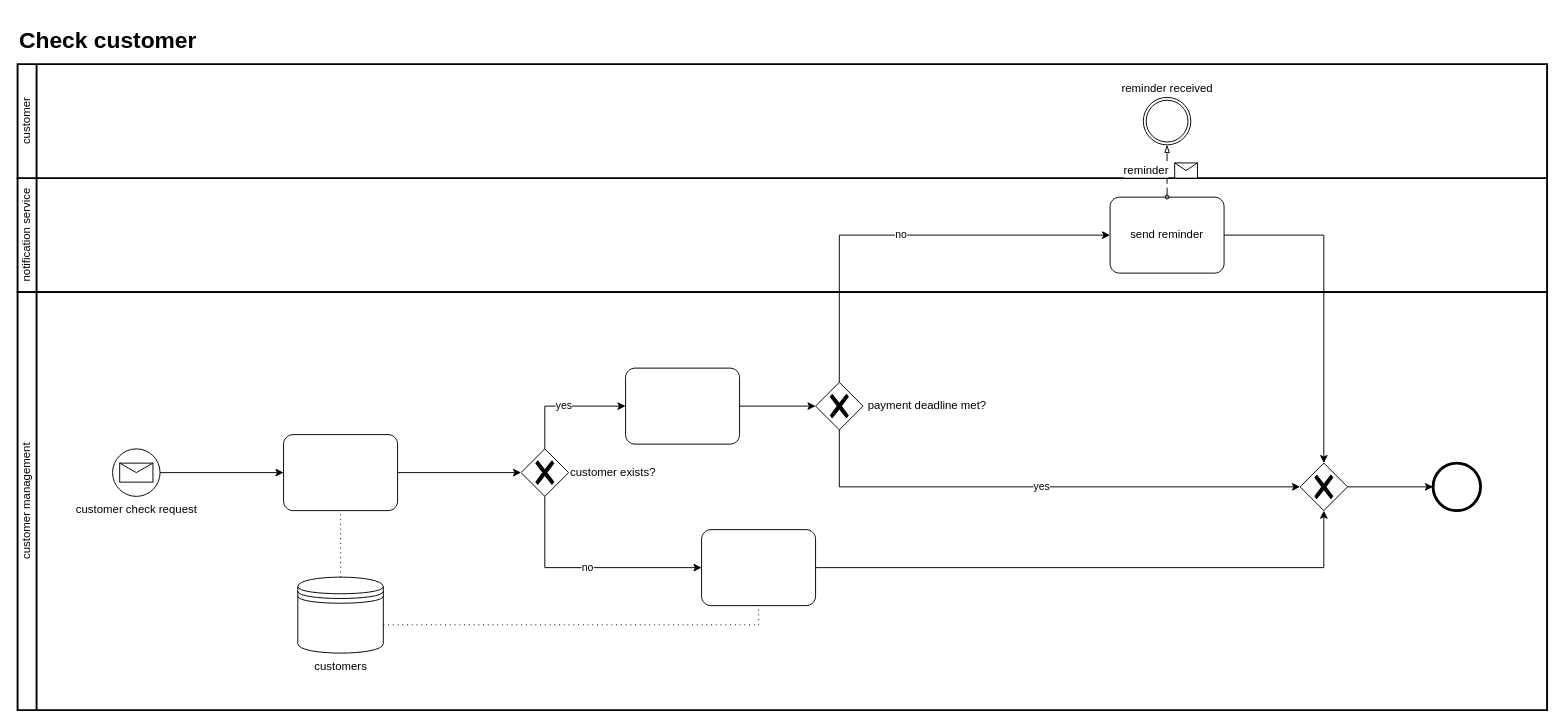
Image size: 1564x727. Some labels were removed from this diagram. Each missing label, with the centre of its shape:
"check customers" goes at (x=340, y=472).
"check for open invoices" goes at (x=682, y=405).
"create new customer" goes at (x=758, y=567).
"customer check successful" goes at (x=1456, y=486).
